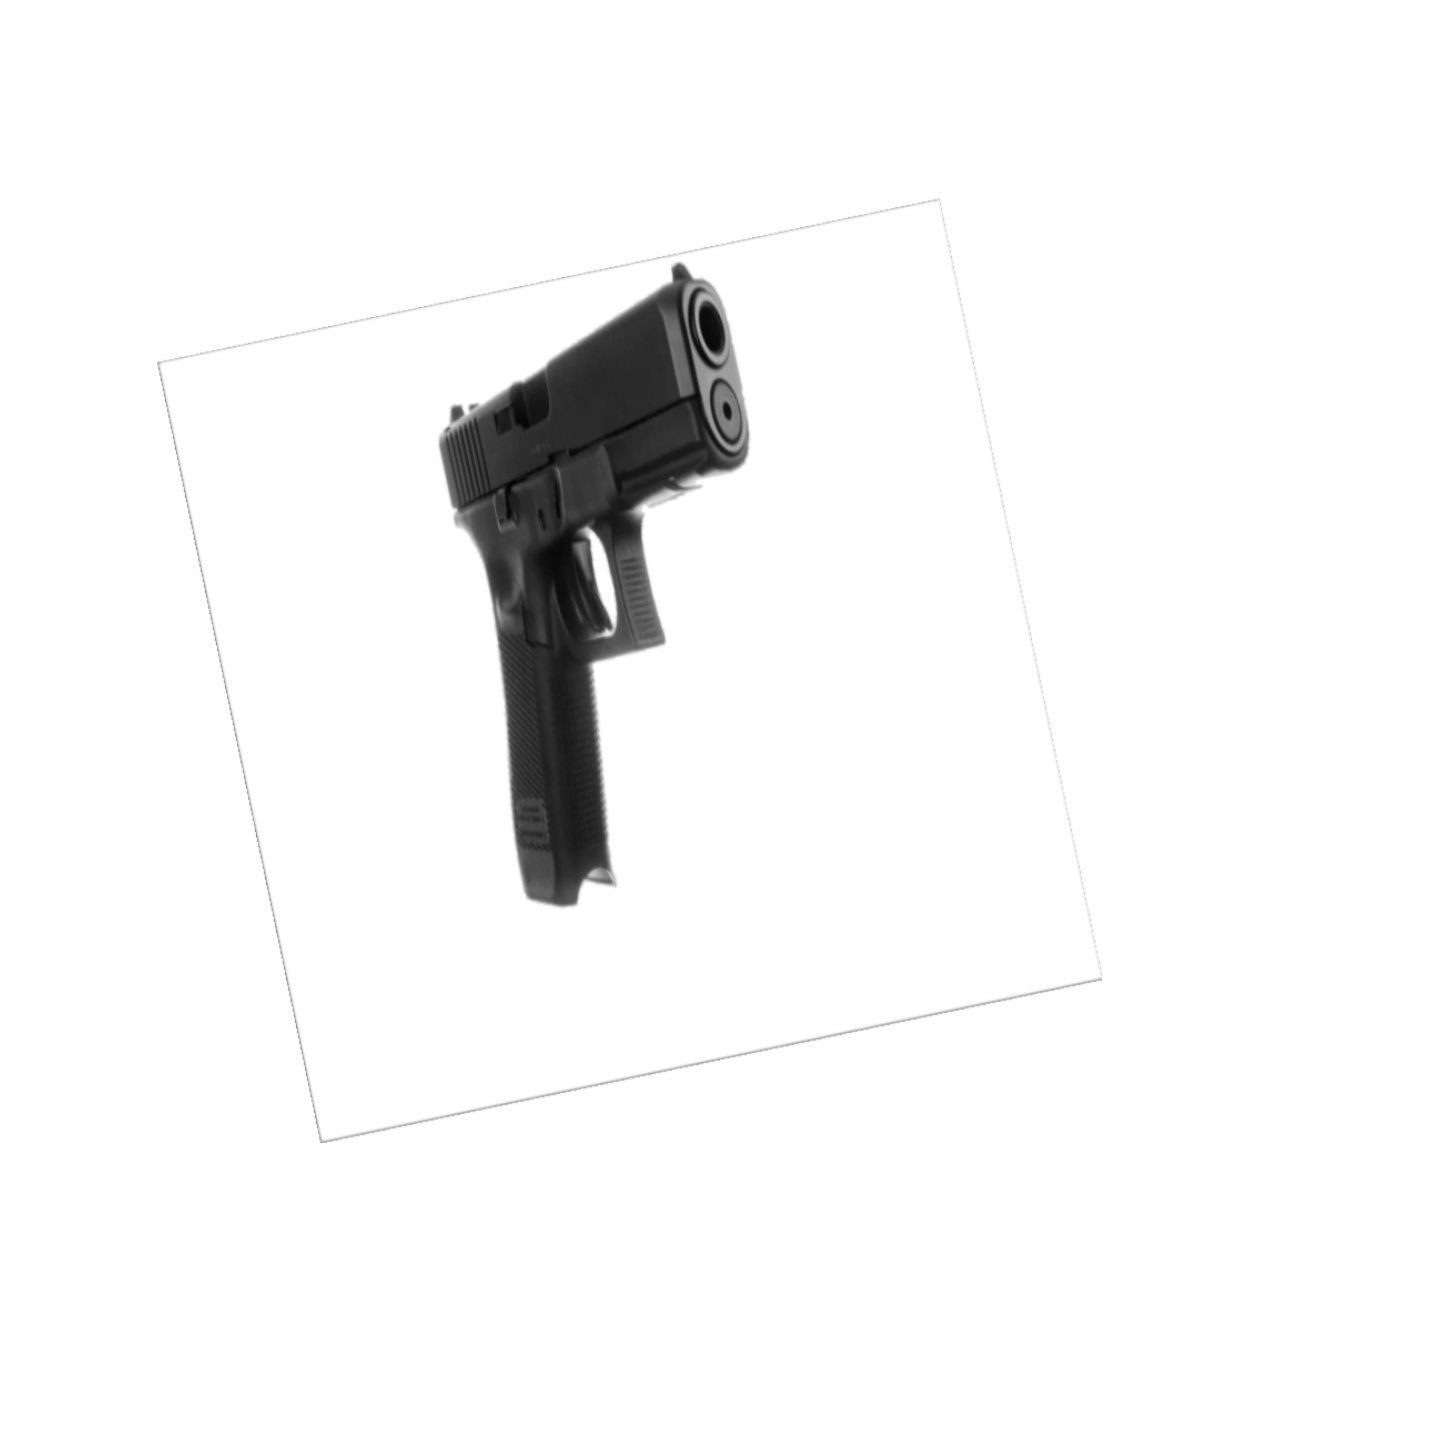gun: (429, 257, 756, 910)
